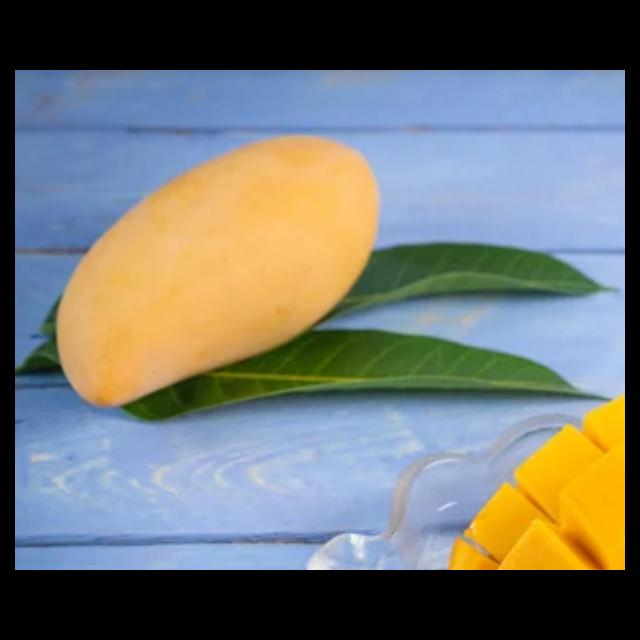mango: (51, 135, 382, 412)
